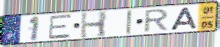1: (28, 15, 41, 41)
A: (169, 6, 199, 31)
E: (48, 14, 73, 40)
H: (79, 11, 109, 40)
I: (125, 9, 134, 36)
R: (142, 8, 171, 34)
